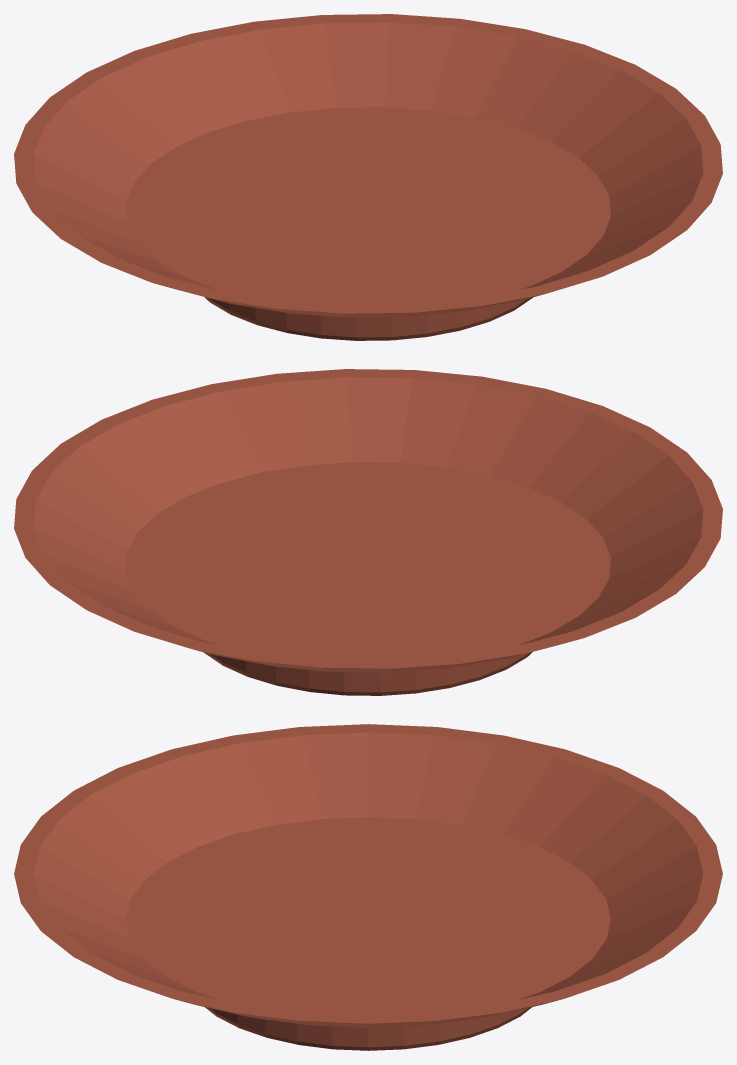
File: platter.fbx
3 views of the same model, one above another, from view 1: azimuth 30°, elevation 25°; view 2: azimuth 150°, elevation 25°; view 3: azimuth 270°, elevation 25° (orthographic).
Parts seen in each view (by area): view 1: platter; view 2: platter; view 3: platter.
Boxes of the visible parts, x1,y1,x2,y2 form: platter: (14, 14, 722, 340); platter: (14, 369, 722, 695); platter: (14, 724, 722, 1050).
Size of the model in its own units: 19.18 by 3.03 by 19.18.
